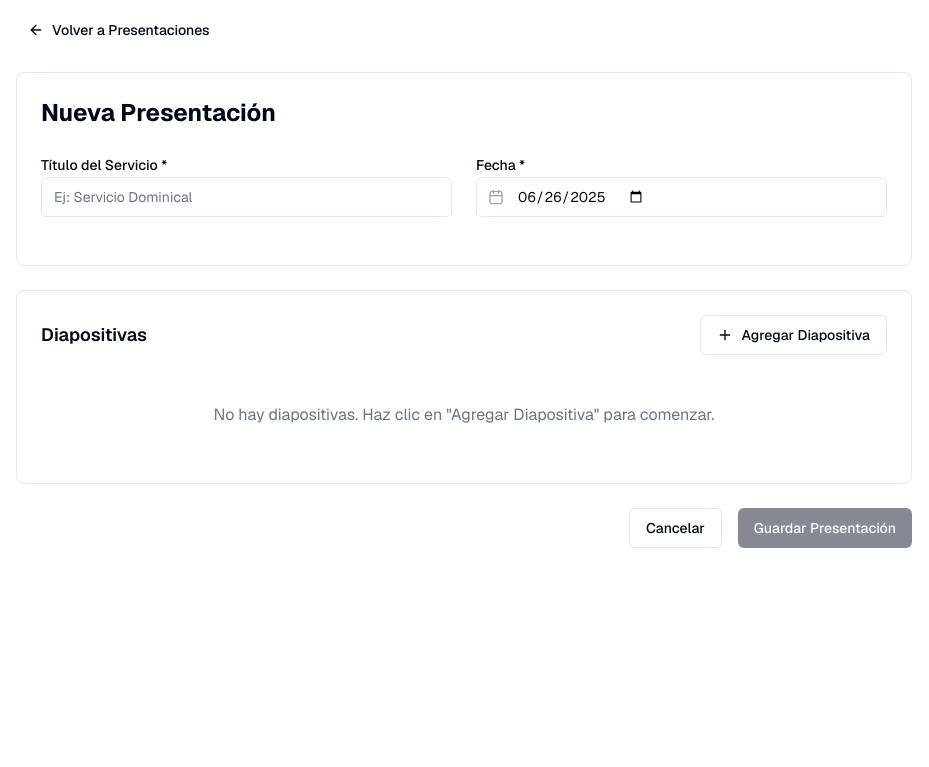
it: PresentationBuilderPage › requires title and at least one slide to save
Expected: the button "Guardar Presentación" is disabled, [738,508,912,548]
# Add title
In the field labelled "Título del Servicio *": [246, 197] box [41,177,452,217], type "Servicio Dominical"
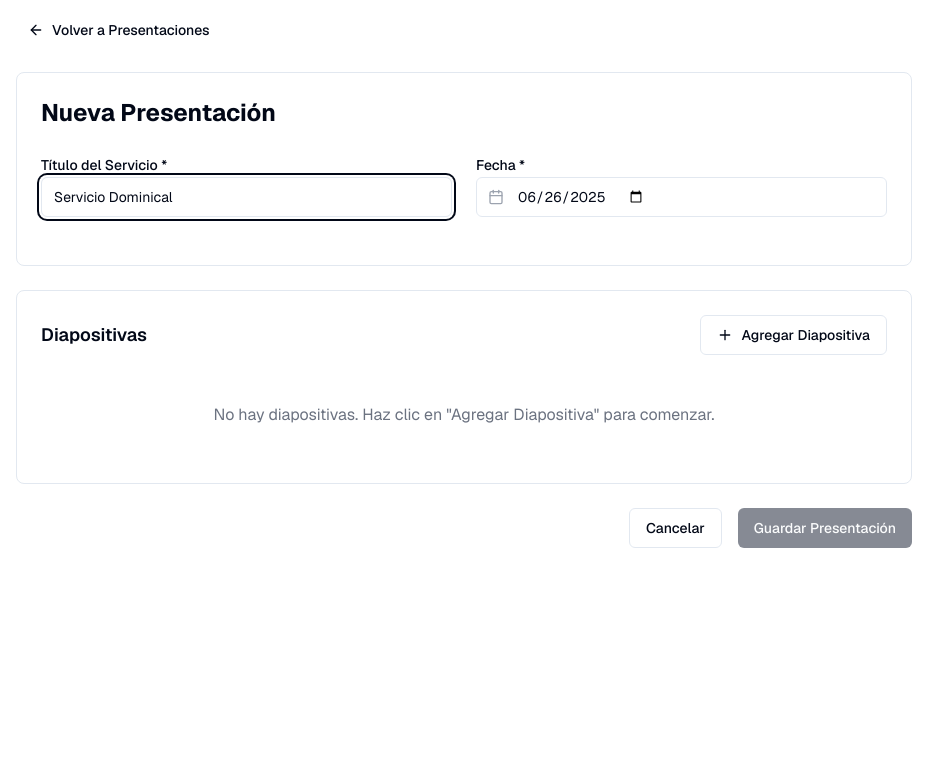
Expected: the button "Guardar Presentación" is disabled, [738,508,912,548]
# Add a slide
Click the button "Agregar Diapositiva": [794, 335] box [700,315,887,355]
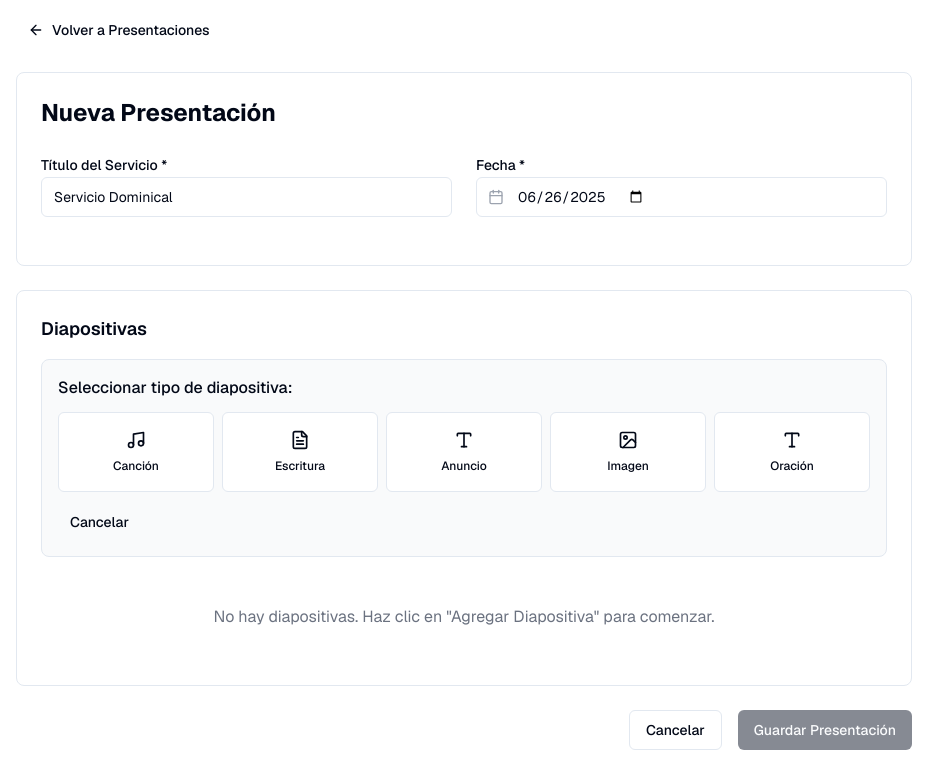
Click the button "Anuncio": [464, 452] box [386,412,542,492]
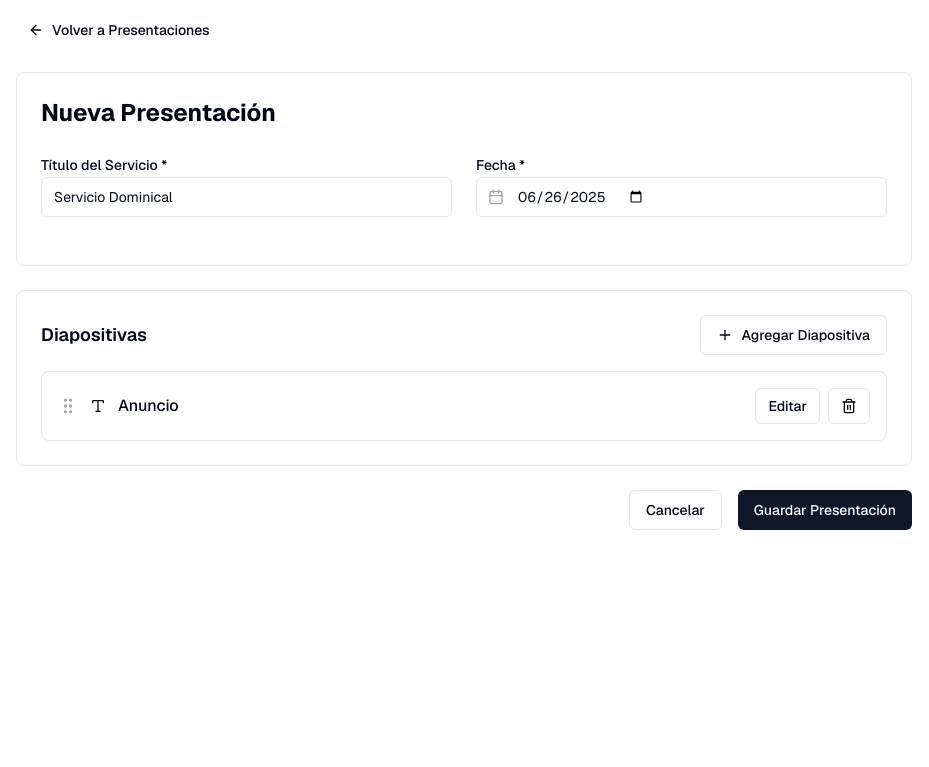
Expected: the button "Guardar Presentación" is enabled, [738,490,912,530]
